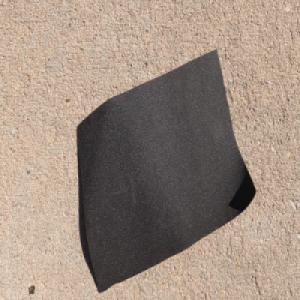PaintChip: (77, 47, 257, 292)
